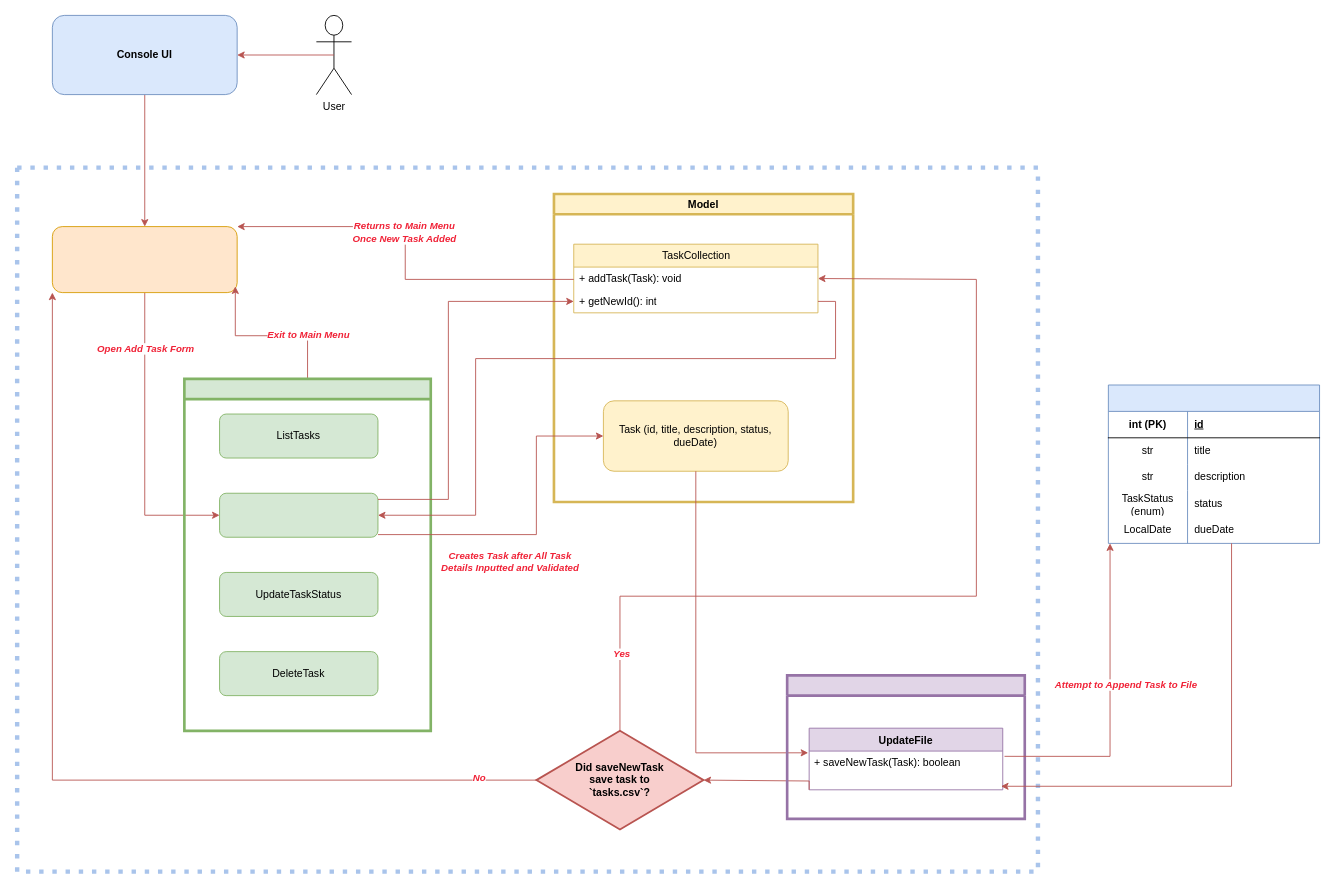
Image size: 1335x889. Some labels were removed from this diagram. The box of each missing label's shape, as (x1, y1, x2, y2) in pixels:
AddTask: (219, 492, 378, 537)
Menu: (51, 226, 237, 293)
Persistence: (785, 674, 1026, 820)
Service: (183, 377, 432, 732)
tasks.csv: (1107, 384, 1320, 543)
